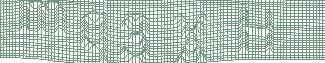3: (118, 12, 152, 63)
H: (236, 7, 274, 56)
X: (171, 11, 207, 63)
m: (18, 1, 67, 38)
q: (78, 11, 109, 63)
